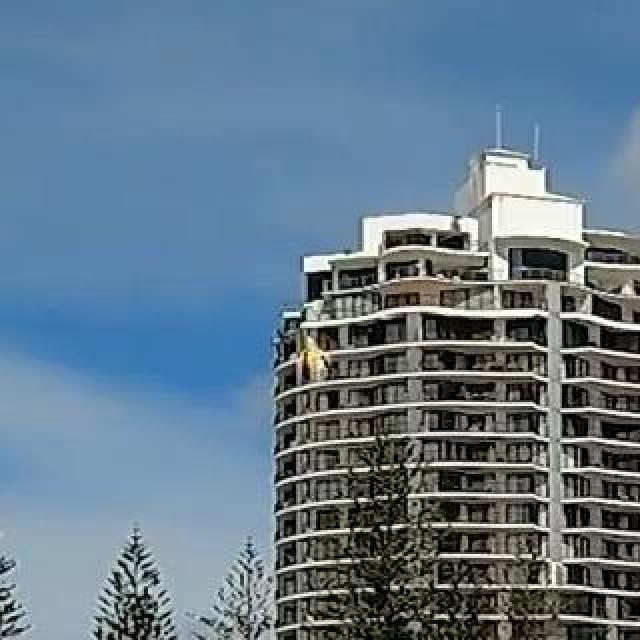volleyball: (299, 348, 329, 380)
